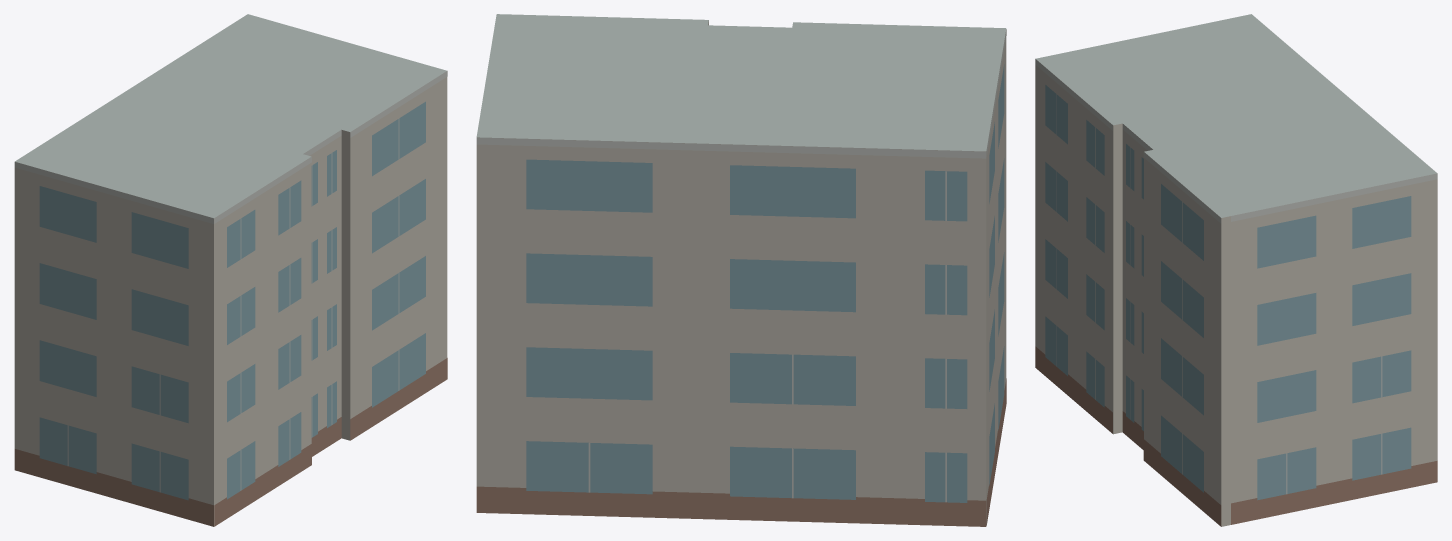
The model's file is survey-upis-32739653.glb.
3 views of the same model, side by side, from view 1: azimuth 30°, elevation 25°; view 2: azimuth 150°, elevation 25°; view 3: azimuth 270°, elevation 25° (orthographic). The views are drawn at different scales.
Visible parts, largest first — view 1: survey-upis-32739653.tmp; view 2: survey-upis-32739653.tmp; view 3: survey-upis-32739653.tmp.
Boxes of the visible parts, x1,y1,x2,y2 form: survey-upis-32739653.tmp: [14, 14, 447, 526]; survey-upis-32739653.tmp: [476, 14, 1006, 526]; survey-upis-32739653.tmp: [1035, 14, 1437, 526].
Size of the model in its own units: 18.14 by 12.8 by 15.11.
